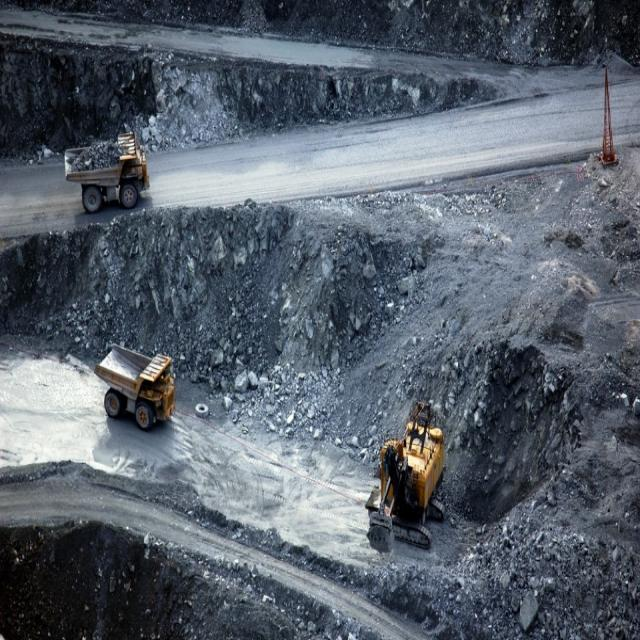dump_truck: (92, 330, 179, 435), (54, 130, 162, 212)
excavator: (358, 394, 449, 572)
